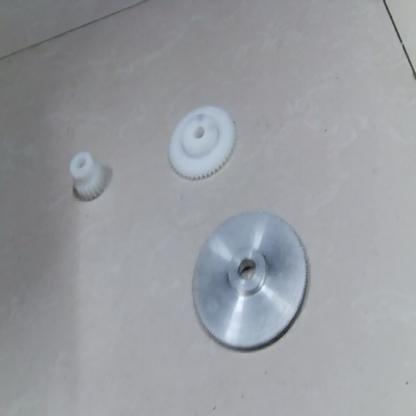FOD: (189, 207, 314, 360), (158, 93, 235, 185), (58, 149, 106, 205)
